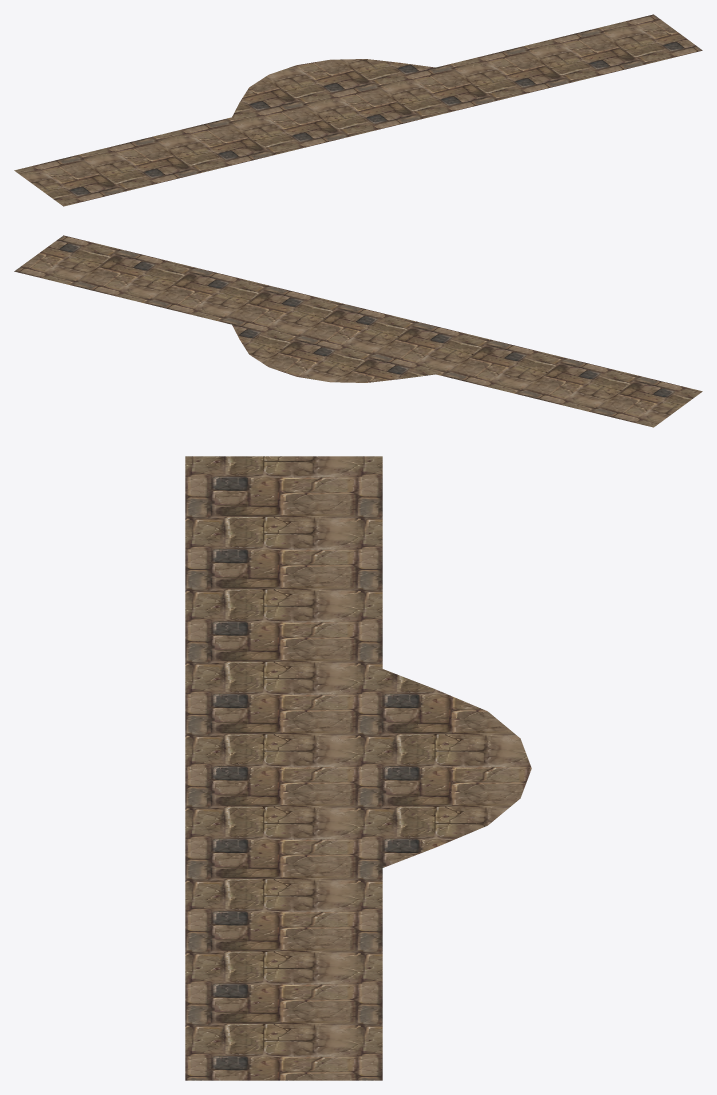
Rendered from arch_wall_top_floor.FBX.
3 views of the same model, one above another, from view 1: azimuth 30°, elevation 25°; view 2: azimuth 150°, elevation 25°; view 3: azimuth 270°, elevation 25° (orthographic). The views are drawn at different scales.
Parts seen in each view (by area): view 1: arch_wall_top_floor; view 2: arch_wall_top_floor; view 3: arch_wall_top_floor.
Boxes of the visible parts, <box> form: arch_wall_top_floor: <box>14,14,702,206</box>; arch_wall_top_floor: <box>14,235,702,427</box>; arch_wall_top_floor: <box>185,456,531,1080</box>.
Bounding box in the file's own units: 43.2 × 1.19e-06 × 10.13.
